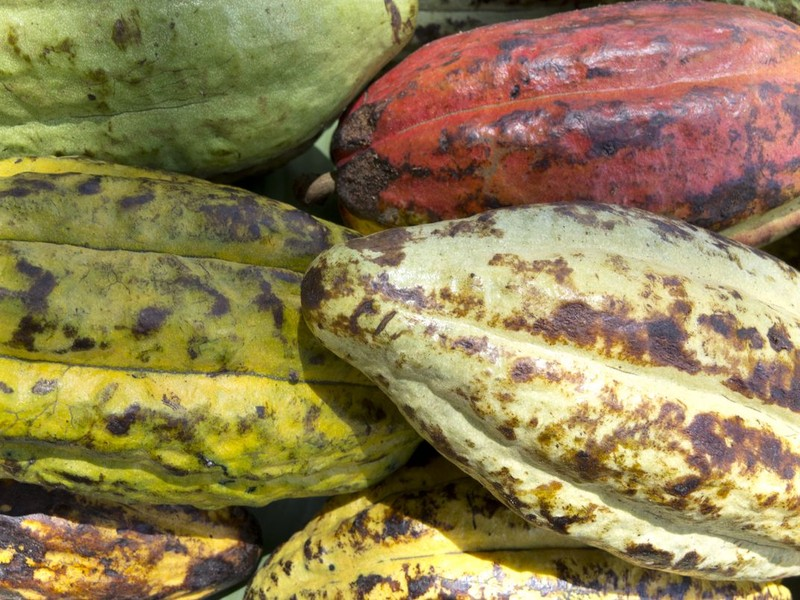Cacaopod: (302, 201, 800, 579), (331, 3, 800, 225)
